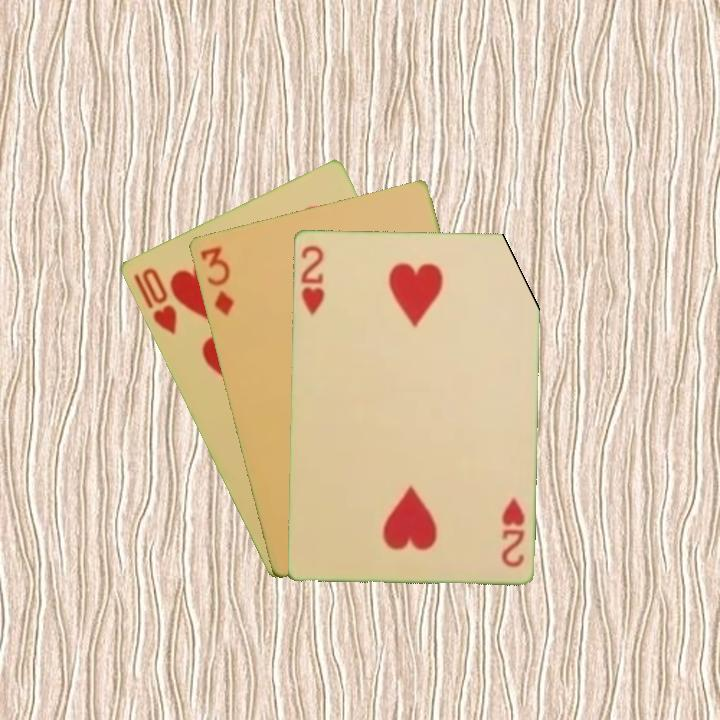10h: (137, 263, 180, 338)
2h: (297, 241, 327, 318), (497, 494, 527, 569)
3d: (196, 242, 237, 319)
